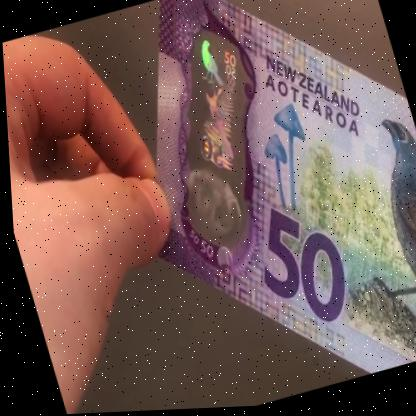50B: (140, 30, 281, 248)
